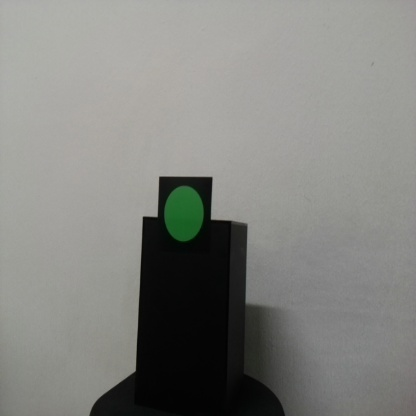id_5: (159, 176, 211, 264)
